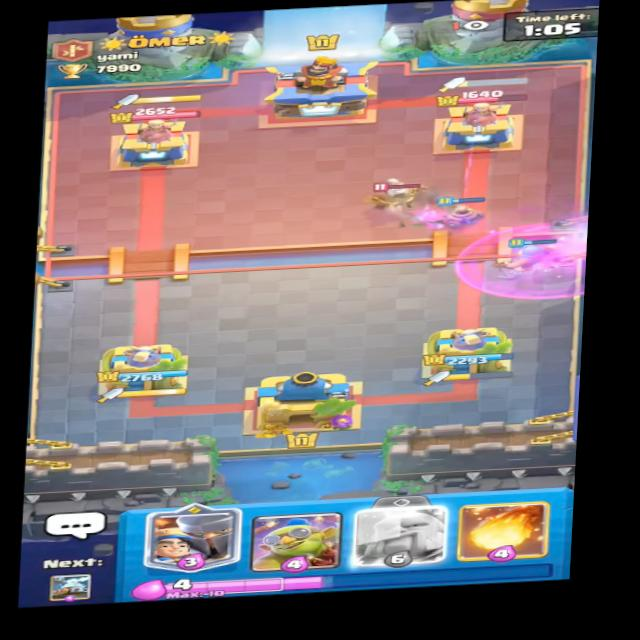Monk: (358, 177, 427, 217)
Rage: (453, 221, 601, 302)
